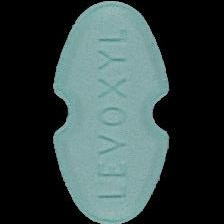60793-859: (0, 0, 224, 224)
